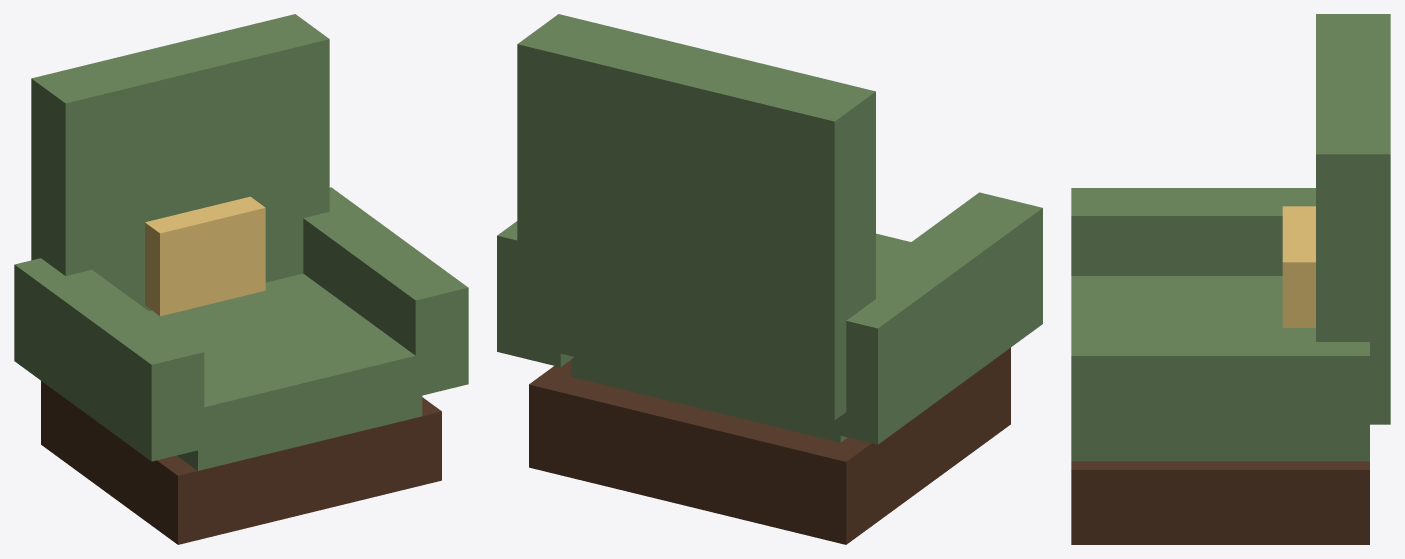
The model's file is GrandmaArmchair.obj.
3 views of the same model, side by side, from view 1: azimuth 30°, elevation 25°; view 2: azimuth 150°, elevation 25°; view 3: azimuth 270°, elevation 25° (orthographic). The views are drawn at different scales.
Visible parts, largest first — view 1: ChairBack, ChairSeat, ChairBase, ArmLeft, ArmRight, Cushion; view 2: ChairBack, ChairBase, ArmLeft, ChairSeat, ArmRight; view 3: ArmRight, ChairBack, ChairBase, ArmLeft, ChairSeat, Cushion.
Boxes of the visible parts, box(x1,y1,x2,y2) form: ChairBack: box(31, 14, 329, 310); ChairSeat: box(149, 273, 422, 470); ChairBase: box(41, 381, 441, 544); ArmLeft: box(14, 258, 204, 461); ArmRight: box(303, 187, 468, 395); Cushion: box(145, 196, 265, 316); ChairBack: box(517, 14, 875, 420); ChairBase: box(529, 347, 1010, 544); ArmLeft: box(814, 192, 1042, 444); ChairSeat: box(571, 233, 910, 442); ArmRight: box(497, 221, 574, 367); ArmRight: box(1071, 328, 1369, 461); ChairBack: box(1316, 14, 1390, 424); ChairBase: box(1071, 461, 1369, 544); ArmLeft: box(1071, 188, 1315, 275); ChairSeat: box(1071, 276, 1282, 327); Cushion: box(1282, 206, 1315, 327).
Bounding box in the file's own units: 4.8 × 5.2 × 3.85.
